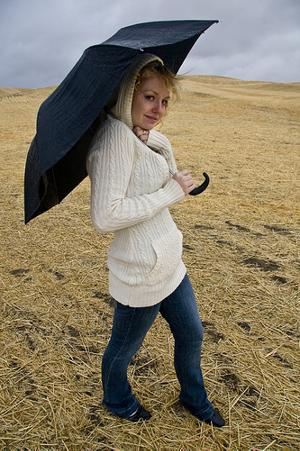person: (86, 52, 226, 428)
